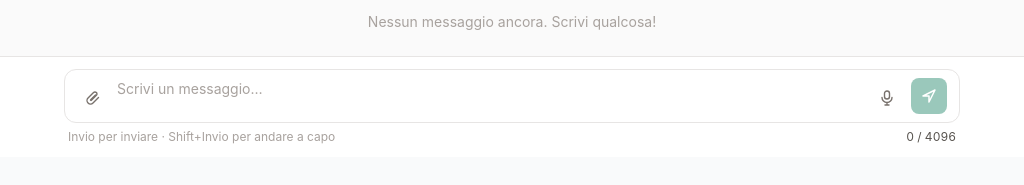
Test: ChatArea – handleMicClick: avvio registrazione › ferma la registrazione al secondo click e chiama recorder.stop()
The width and height of the screenshot is (1024, 185).
Click the button named "registra messaggio vocale" at (887, 98), box x1=871 y1=82 x2=903 y2=114
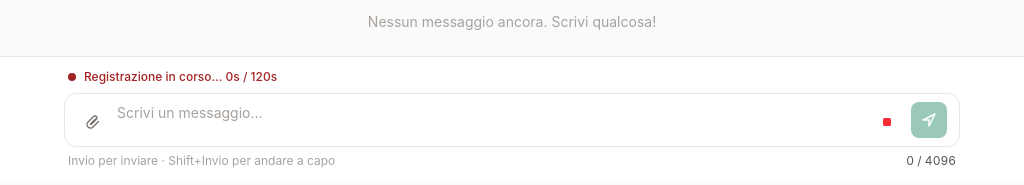
Click the button named "ferma registrazione" at (887, 122), box x1=871 y1=106 x2=903 y2=138
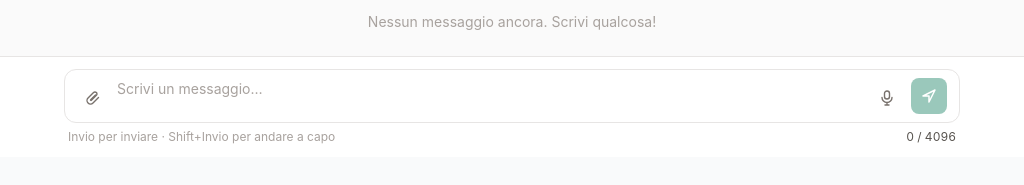
Expected: the text "Registrazione in corso" is gone
